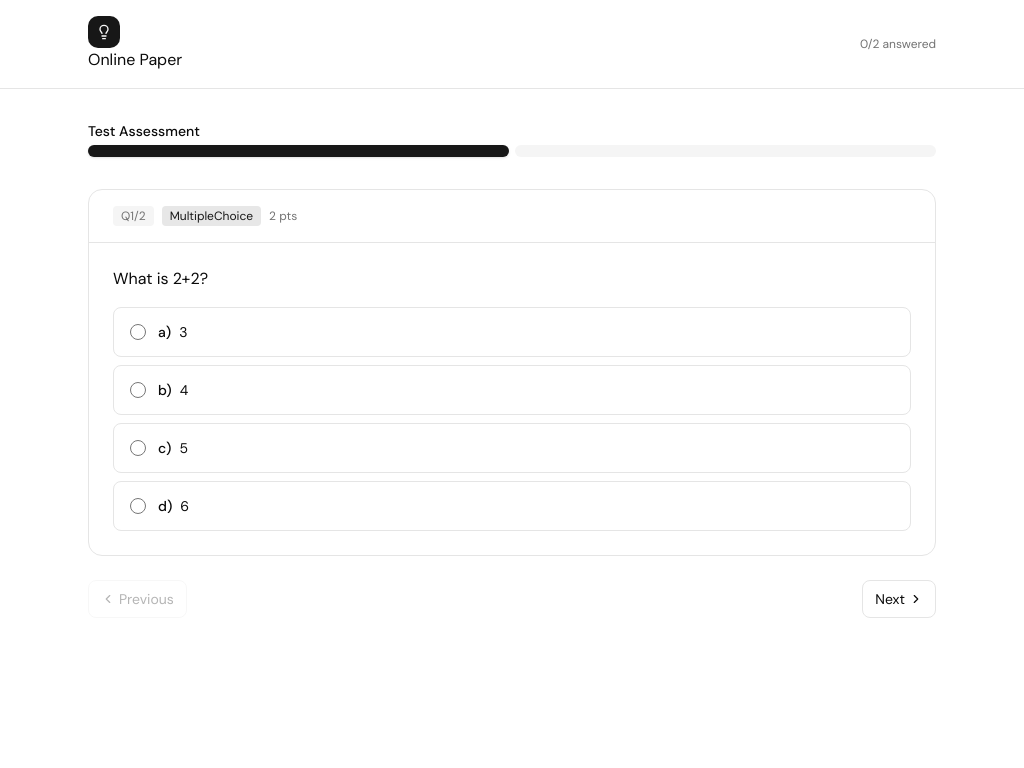
timed assessment take page › a losing submit whose results fetch fails shows the refresh notice
Check: the text "Test Assessment" is shown, box [88,122,200,140]
Click the button "Next" at (899, 599), box [862,580,936,618]
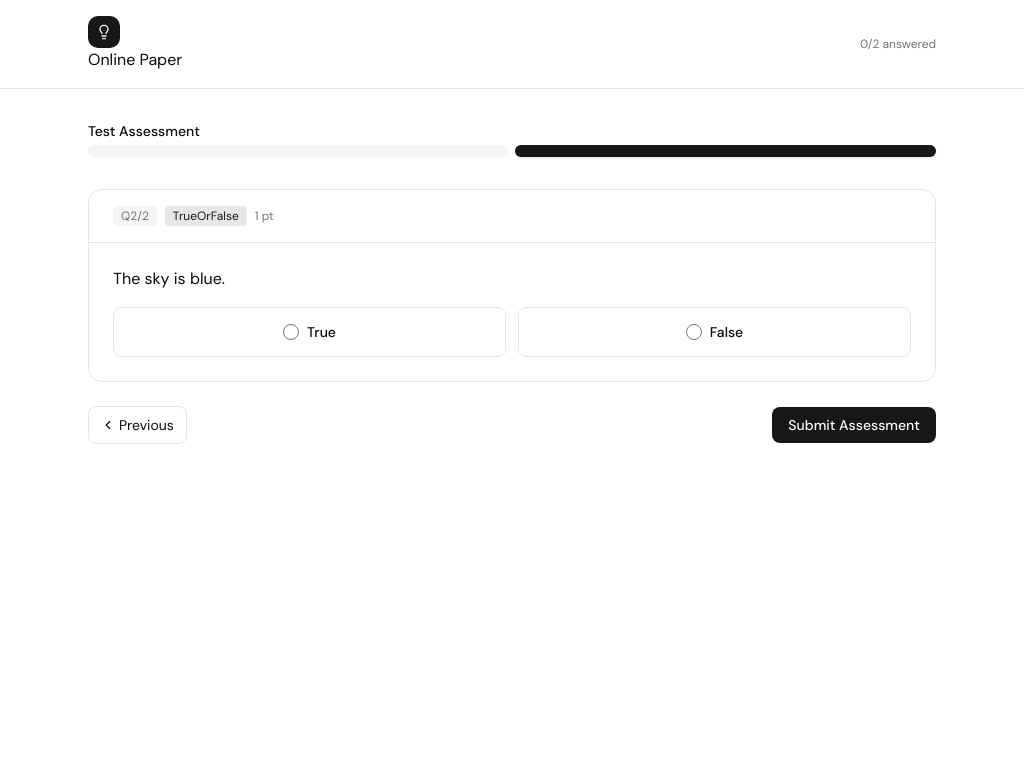
Click the button "Submit Assessment" at (854, 425), box [772,407,936,443]
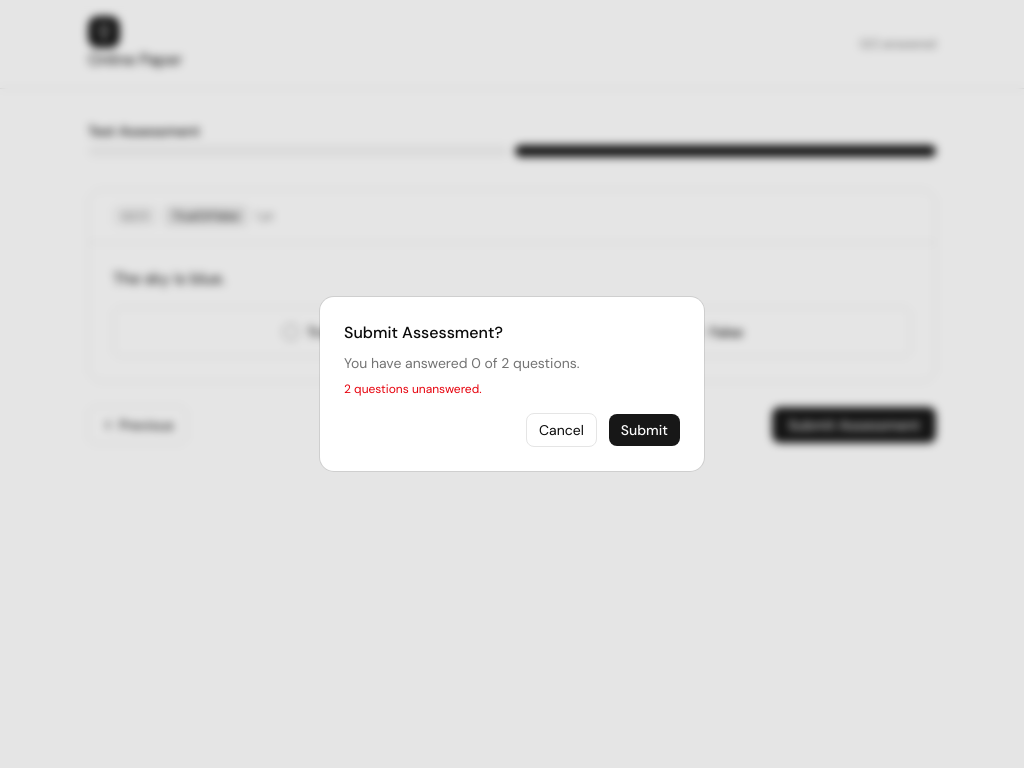
Check: the text "2 questions unanswered." is shown, box [344,381,482,397]
Click the button "Submit" at (644, 430), box [609,414,680,446]
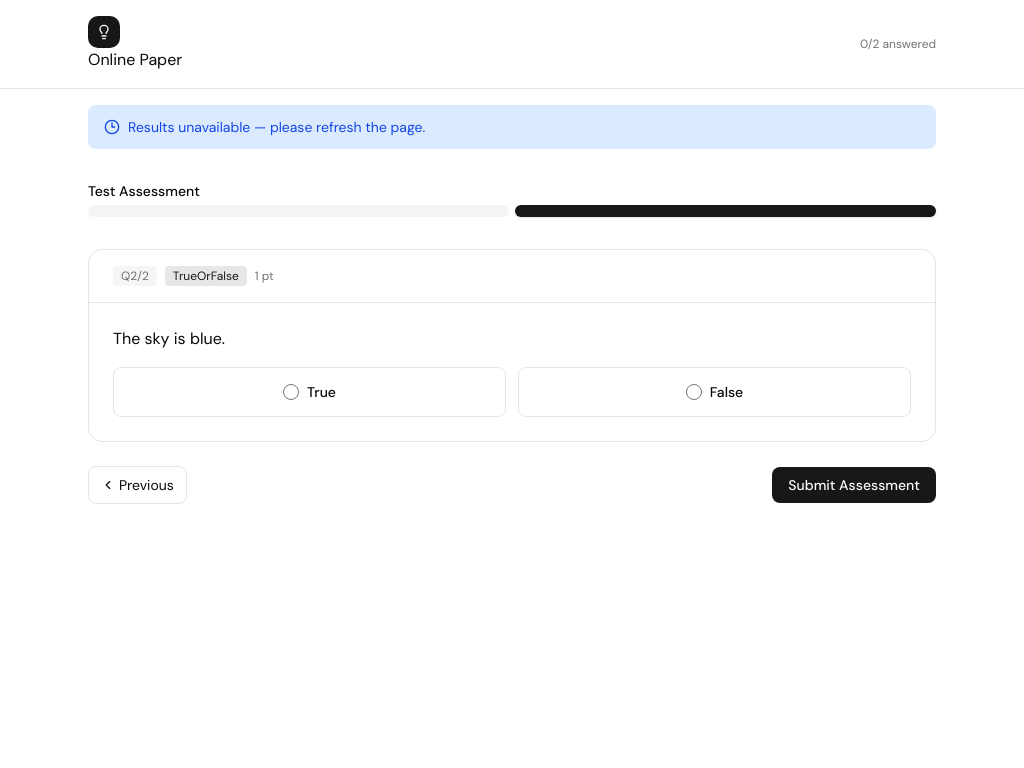
Check: the button "Submit Assessment" is shown, box [772,467,936,503]
Check: the text "Results unavailable — please refresh the page." is shown, box [128,117,425,137]
